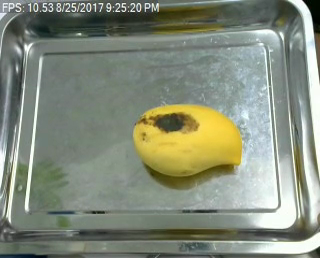Mango: (130, 101, 245, 179)
